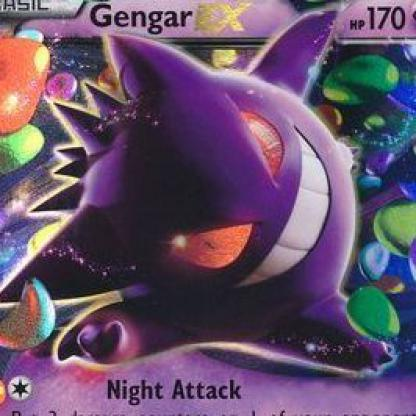Gengar: (11, 33, 416, 373)
